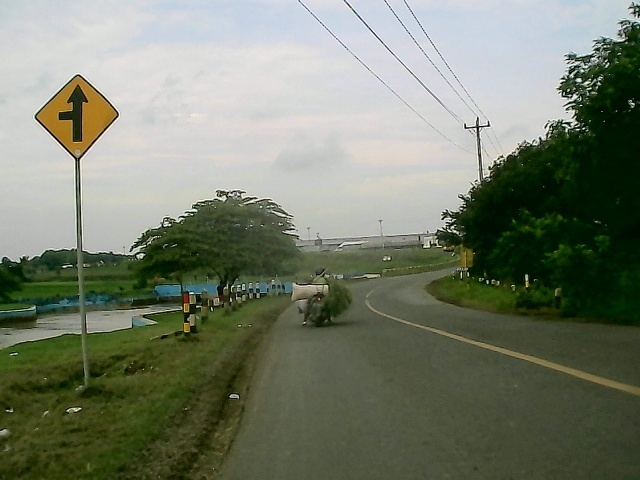Simpang kiri dengan prioritas: (31, 73, 123, 164)
